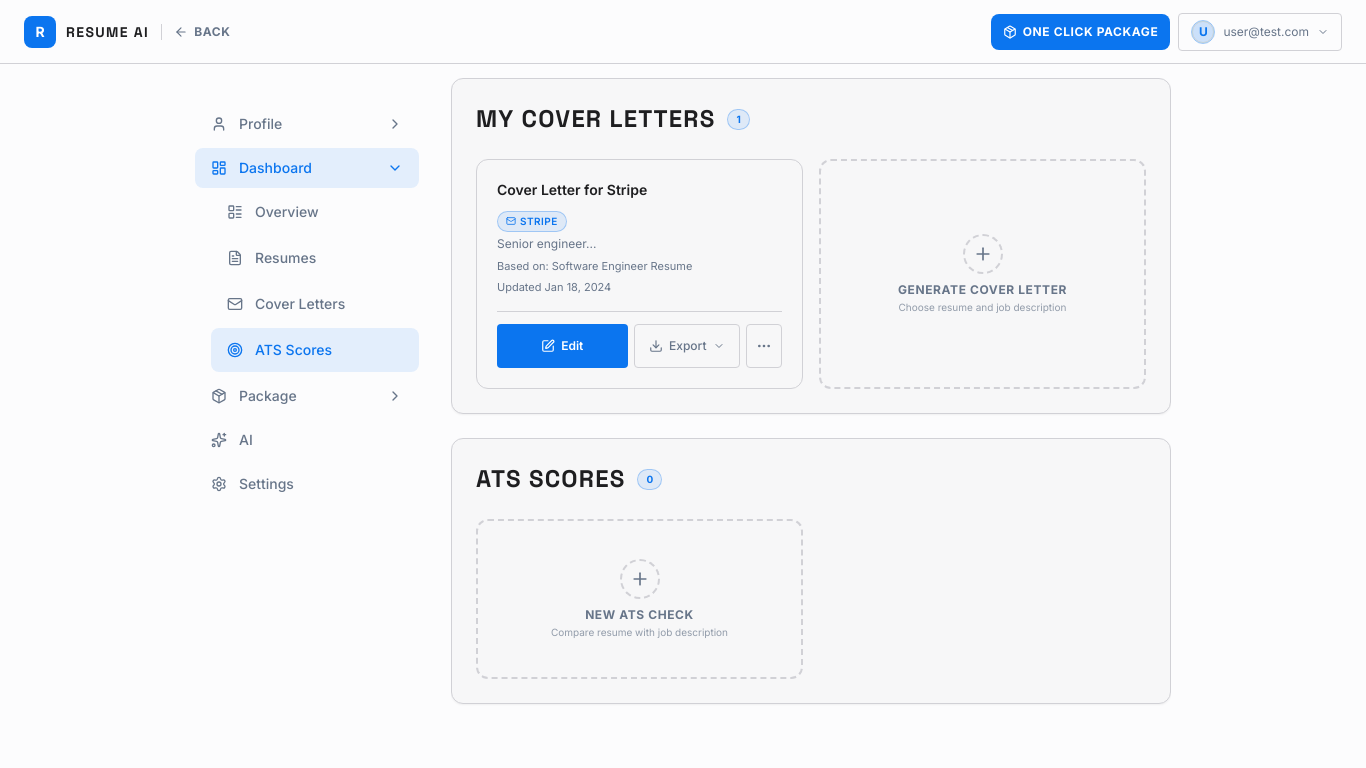
Test: Dashboard — ATS check modal › opens the ATS JD-entry modal via New ATS Check → resume picker
This screenshot has width=1366, height=768.
(page scrolled)
Click the text "New ATS Check". click: (639,614)
box: [585, 606, 694, 622]
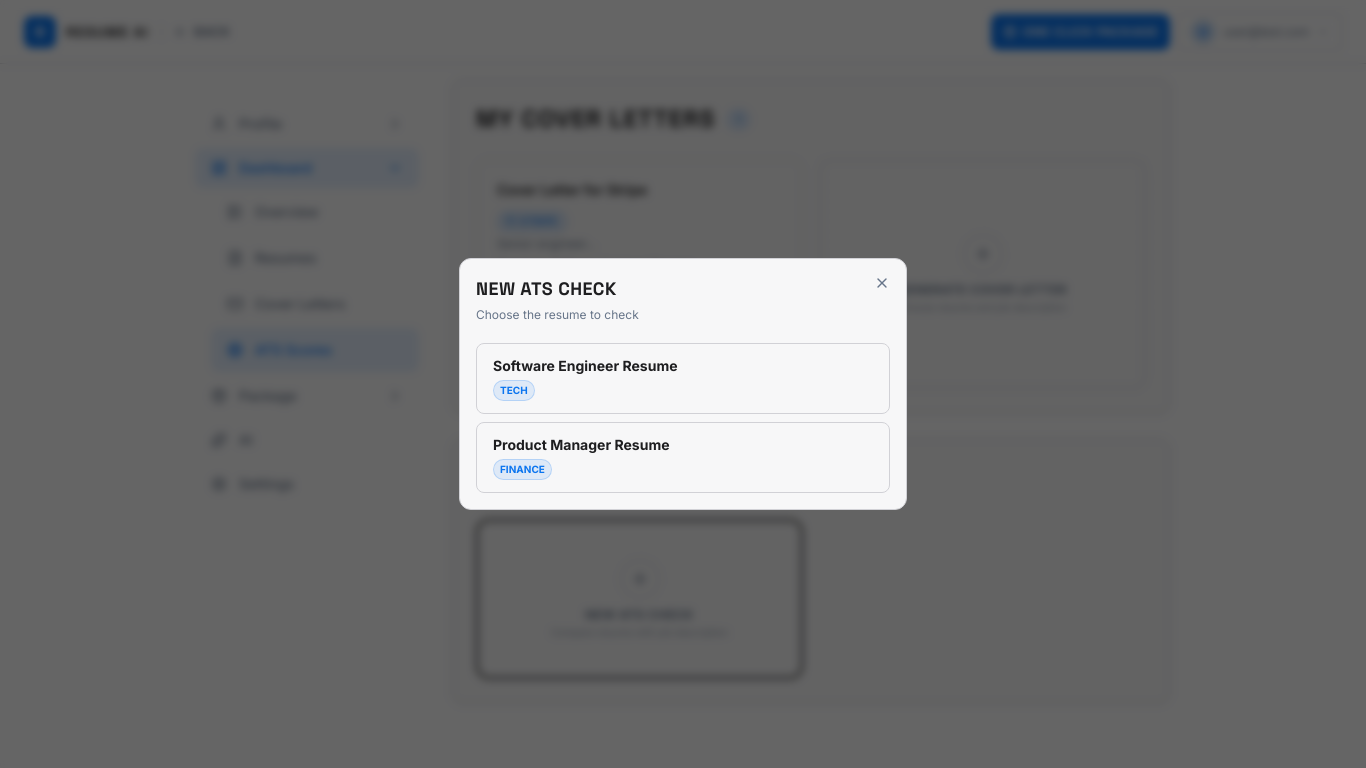
Expected: the heading "New ATS Check" is shown, [476, 277, 617, 300]
Click the button "Software Engineer Resume tech". click: (585,366)
box: [476, 343, 890, 414]
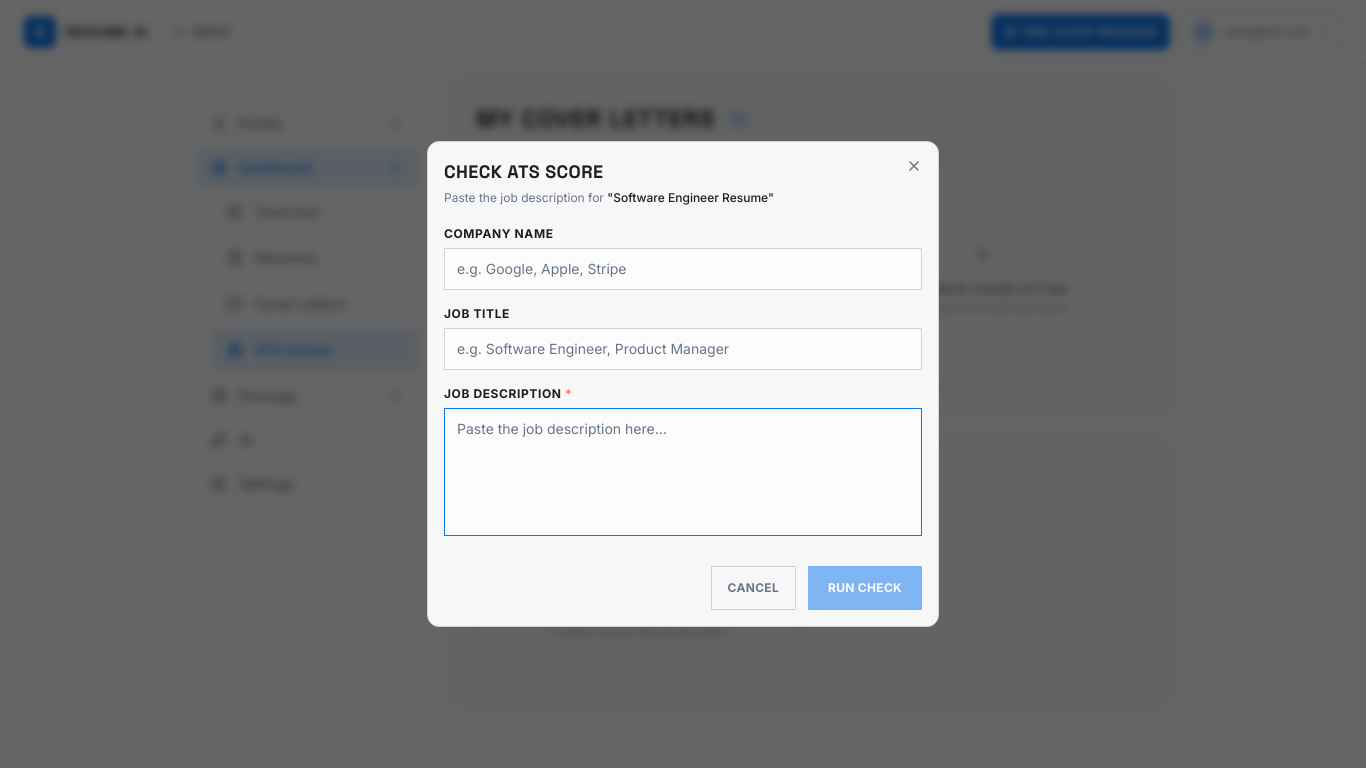
Expected: the heading "Check ATS Score" is shown, [444, 160, 604, 183]
Expected: the text box with placeholder "Paste the job description here..." is shown, [444, 408, 922, 536]
